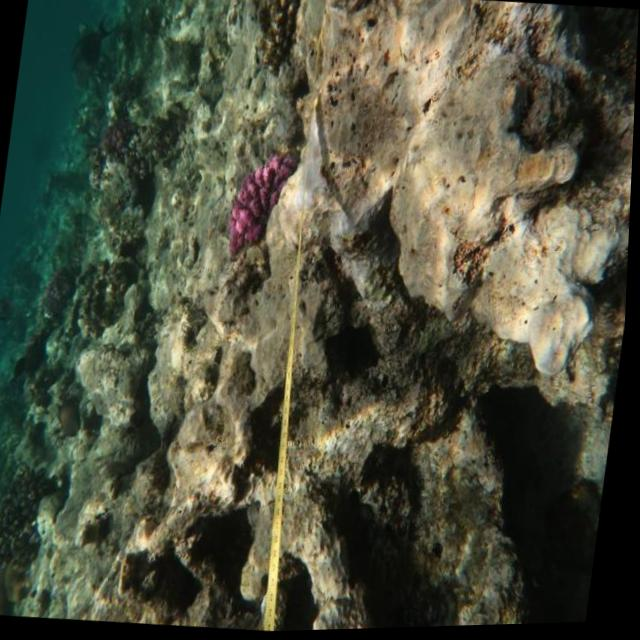Healthy Coral: (219, 140, 304, 268)
